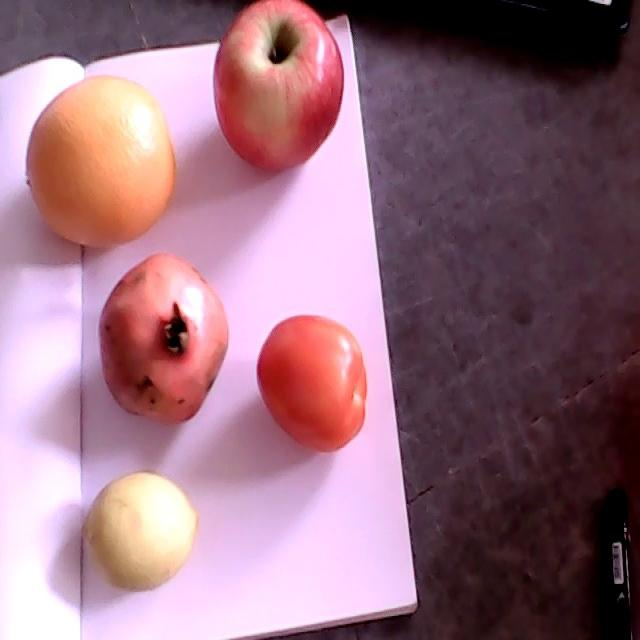apple: (213, 0, 343, 173)
lemon: (82, 473, 198, 587)
orange: (26, 76, 177, 248)
pomegranate: (99, 253, 229, 421)
tomato: (257, 315, 367, 454)
